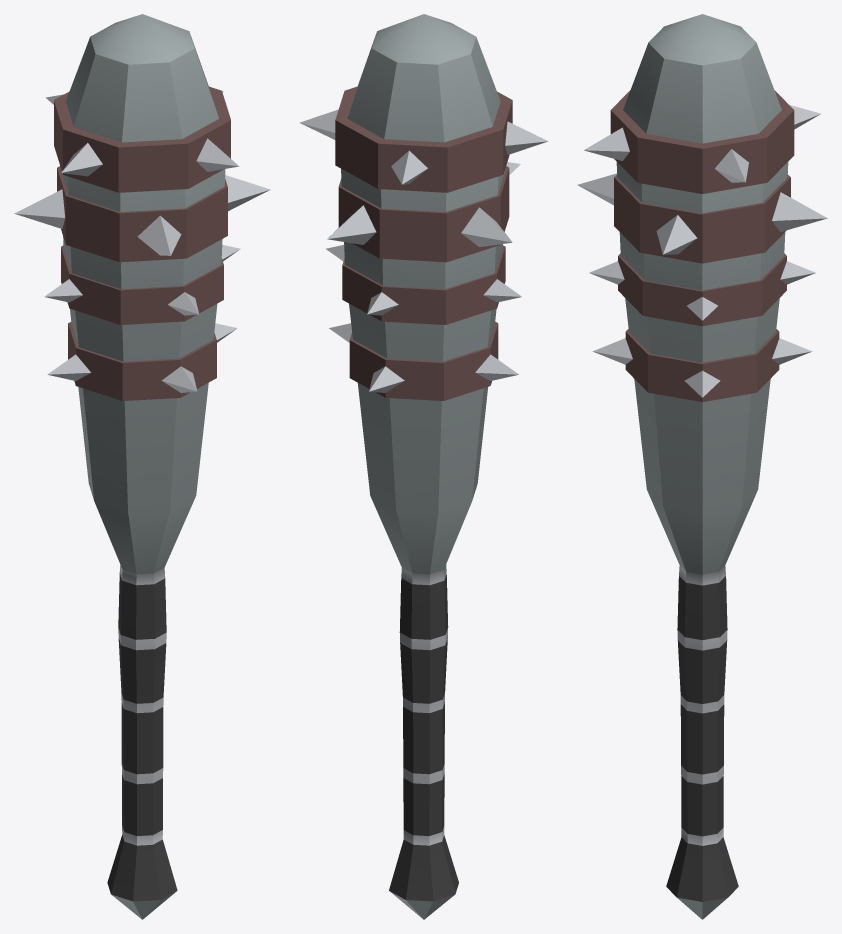
Rendered from Mace_9.fbx.
The picture shows the model from 3 angles, left to right: view 1: azimuth 30°, elevation 25°; view 2: azimuth 150°, elevation 25°; view 3: azimuth 270°, elevation 25°; orthographic projection.
Visible parts, largest first — view 1: polySurface411; view 2: polySurface411; view 3: polySurface411.
Part boxes in pixels (x1,y1,x2,y2): polySurface411: [14, 14, 270, 919]; polySurface411: [299, 14, 548, 919]; polySurface411: [577, 14, 827, 919].
Size of the model in its own units: 66.5 by 265 by 66.5.
